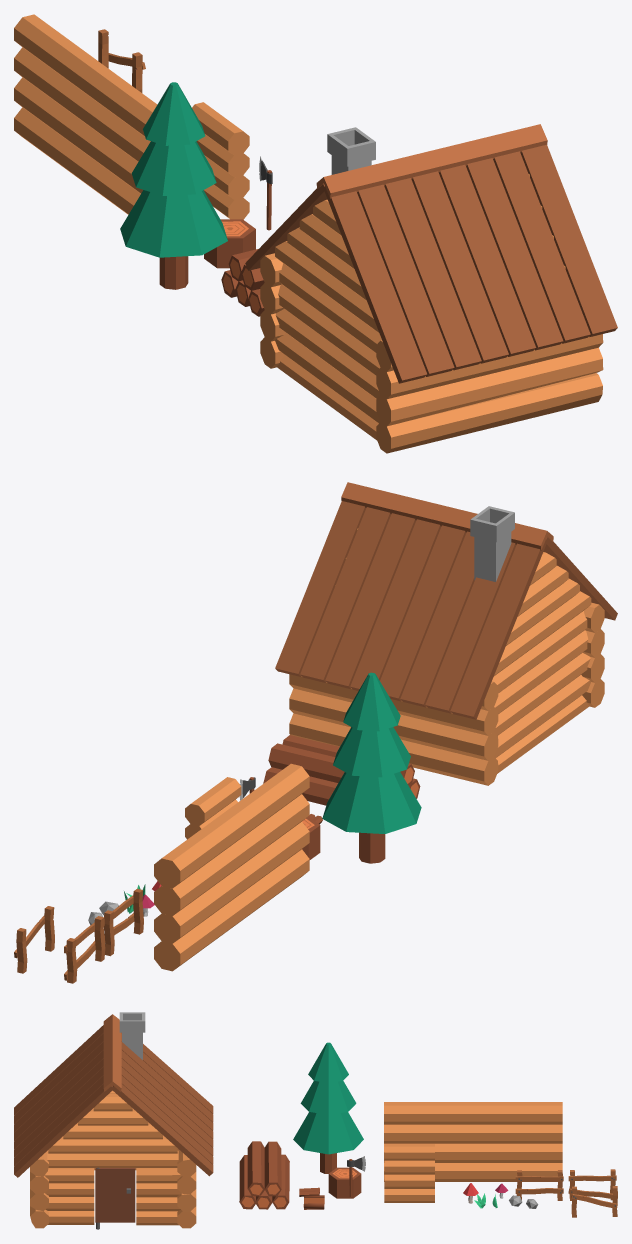
The model's file is house.fbx.
3 views of the same model, one above another, from view 1: azimuth 30°, elevation 25°; view 2: azimuth 150°, elevation 25°; view 3: azimuth 270°, elevation 25° (orthographic). The views are drawn at different scales.
Visible parts, largest first — view 1: Cube.009, Cylinder.008, Cylinder.063, Cylinder.017, Cylinder.038, Cylinder.037, Cylinder.013, Cylinder.041, Cube.012, Cylinder.043, Cube.020; view 2: Cube.009, Cylinder.008, Cylinder.017, Cylinder.041, Cylinder.038, Cylinder.037, Cube.012, Cylinder.063, Cylinder.013, Cylinder.082, Cylinder.053, Cube.016 (+3 smaller); view 3: Cube.009, Cylinder.008, Cylinder.039, Cylinder.017, Cylinder.013, Cylinder.040, Cylinder.061, Cylinder.062, Cylinder.041, Cylinder.063, Cube.012, Cylinder.083 (+7 smaller).
Boxes of the visible parts, bbox=[...] form: Cube.009: bbox=[245, 124, 617, 383]; Cylinder.008: bbox=[14, 14, 157, 214]; Cylinder.063: bbox=[376, 334, 603, 453]; Cylinder.017: bbox=[120, 82, 227, 289]; Cylinder.038: bbox=[275, 263, 381, 440]; Cylinder.037: bbox=[275, 199, 379, 333]; Cylinder.013: bbox=[192, 102, 249, 219]; Cylinder.041: bbox=[260, 253, 285, 368]; Cube.012: bbox=[327, 127, 375, 174]; Cylinder.043: bbox=[204, 219, 255, 268]; Cube.020: bbox=[98, 29, 145, 92]; Cube.009: bbox=[275, 482, 617, 719]; Cylinder.008: bbox=[154, 763, 309, 971]; Cylinder.017: bbox=[322, 672, 421, 863]; Cylinder.041: bbox=[289, 674, 498, 785]; Cylinder.038: bbox=[492, 611, 590, 773]; Cylinder.037: bbox=[494, 552, 591, 675]; Cube.012: bbox=[470, 506, 514, 581]; Cylinder.063: bbox=[581, 602, 604, 707]; Cylinder.013: bbox=[185, 777, 241, 839]; Cylinder.082: bbox=[268, 743, 344, 782]; Cylinder.053: bbox=[64, 916, 105, 983]; Cube.016: bbox=[104, 888, 143, 956]; Cube.009: bbox=[14, 1014, 213, 1177]; Cylinder.008: bbox=[384, 1102, 562, 1181]; Cylinder.039: bbox=[47, 1094, 178, 1167]; Cylinder.017: bbox=[293, 1042, 363, 1173]; Cylinder.013: bbox=[384, 1144, 434, 1202]; Cylinder.040: bbox=[44, 1168, 94, 1224]; Cylinder.061: bbox=[136, 1168, 181, 1225]; Cylinder.062: bbox=[95, 1167, 135, 1229]; Cylinder.041: bbox=[177, 1148, 196, 1228]; Cylinder.063: bbox=[30, 1150, 48, 1228]; Cube.012: bbox=[119, 1012, 145, 1059]; Cylinder.083: bbox=[247, 1141, 264, 1196].
Bounding box in the file's own units: 268 × 269 × 901.
